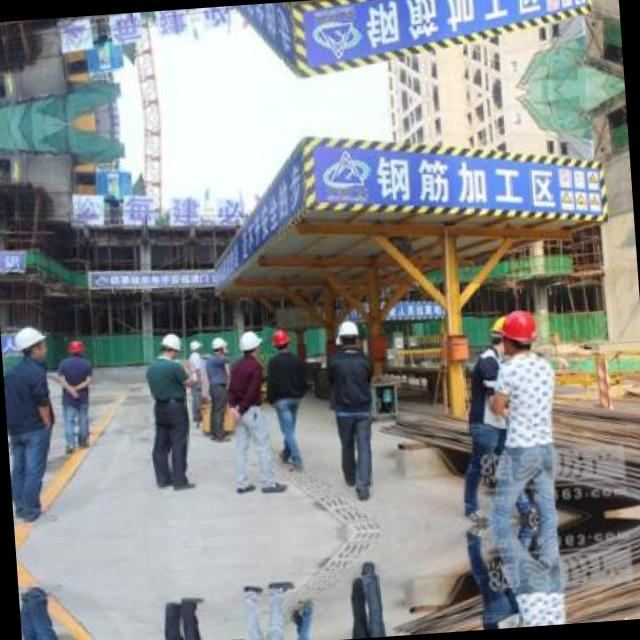helmet: (500, 304, 540, 354), (14, 324, 46, 362), (330, 318, 360, 352), (234, 328, 264, 362), (154, 328, 181, 364), (485, 314, 509, 354), (268, 322, 298, 354), (208, 334, 232, 360), (64, 334, 87, 359), (187, 336, 204, 356)
